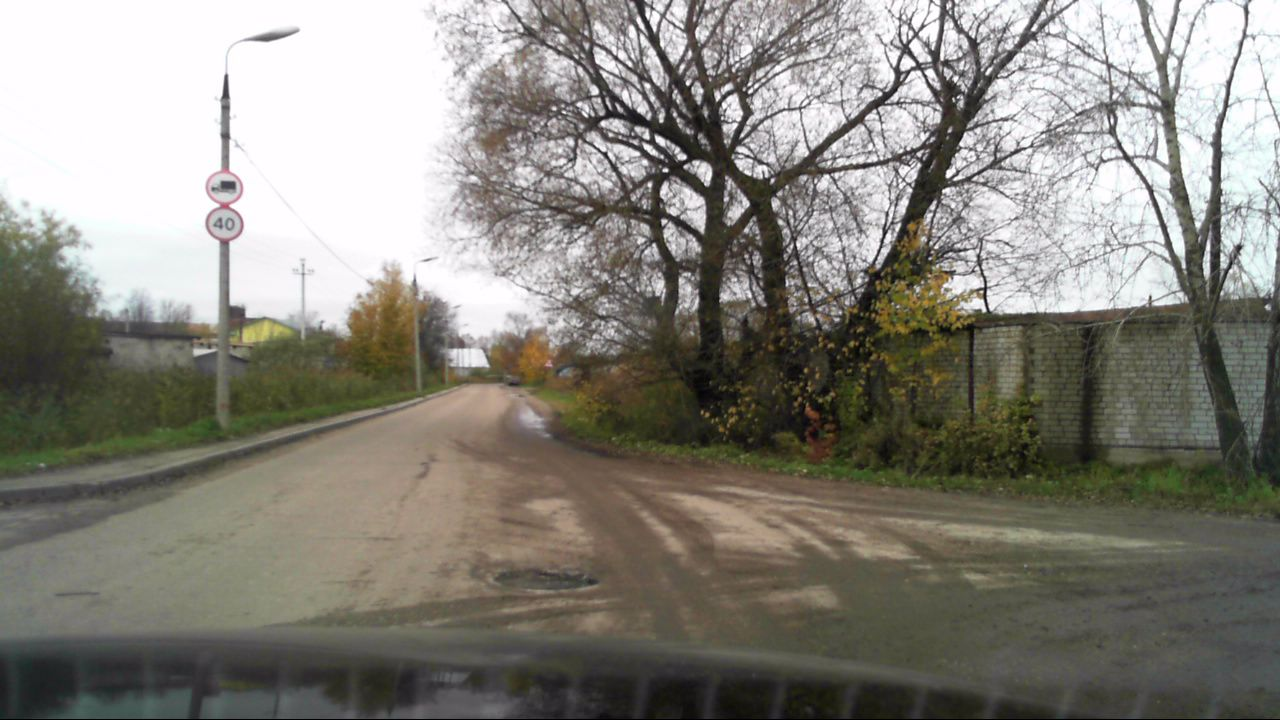speed_warning_40: (206, 206, 243, 242)
